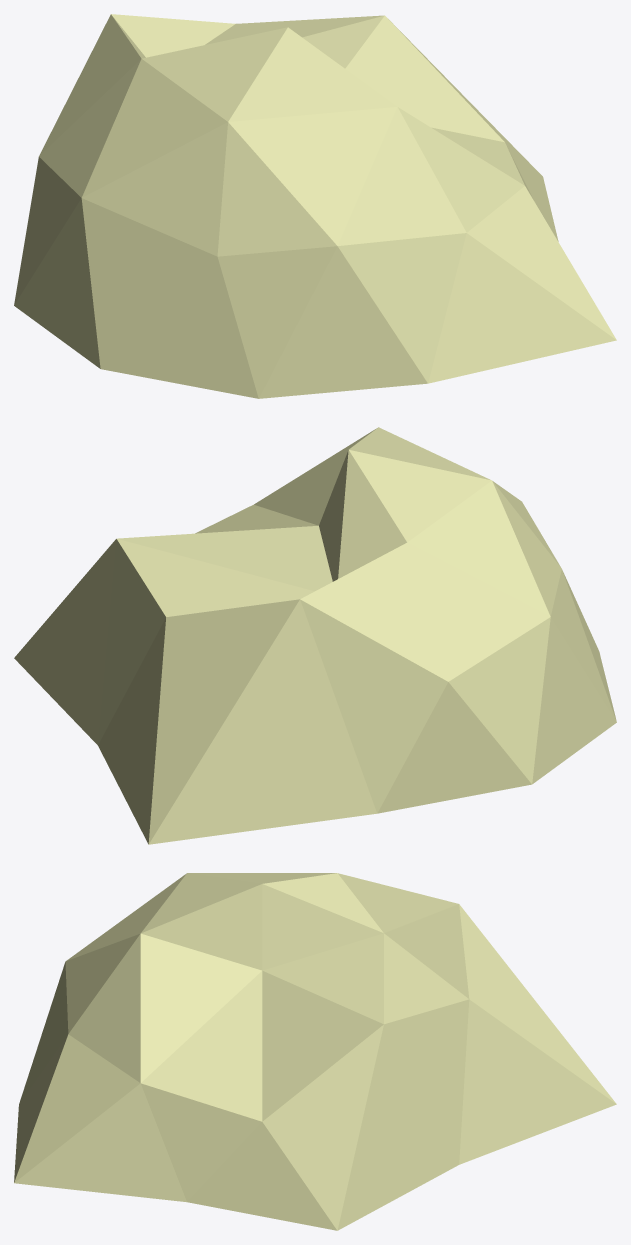
The model's file is stenen3.fbx.
3 views of the same model, one above another, from view 1: azimuth 30°, elevation 25°; view 2: azimuth 150°, elevation 25°; view 3: azimuth 270°, elevation 25° (orthographic). The views are drawn at different scales.
Parts seen in each view (by area): view 1: Icosphere.013; view 2: Icosphere.013; view 3: Icosphere.013.
Boxes of the visible parts, x1,y1,x2,y2 form: Icosphere.013: [14, 14, 616, 398]; Icosphere.013: [14, 427, 616, 844]; Icosphere.013: [14, 873, 616, 1230].
Size of the model in its own units: 218 by 100 by 248.
